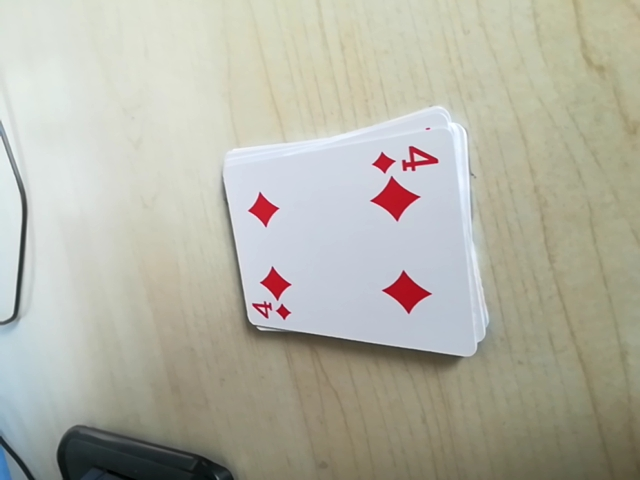fk 4: (374, 135, 442, 178), (245, 293, 296, 325)
